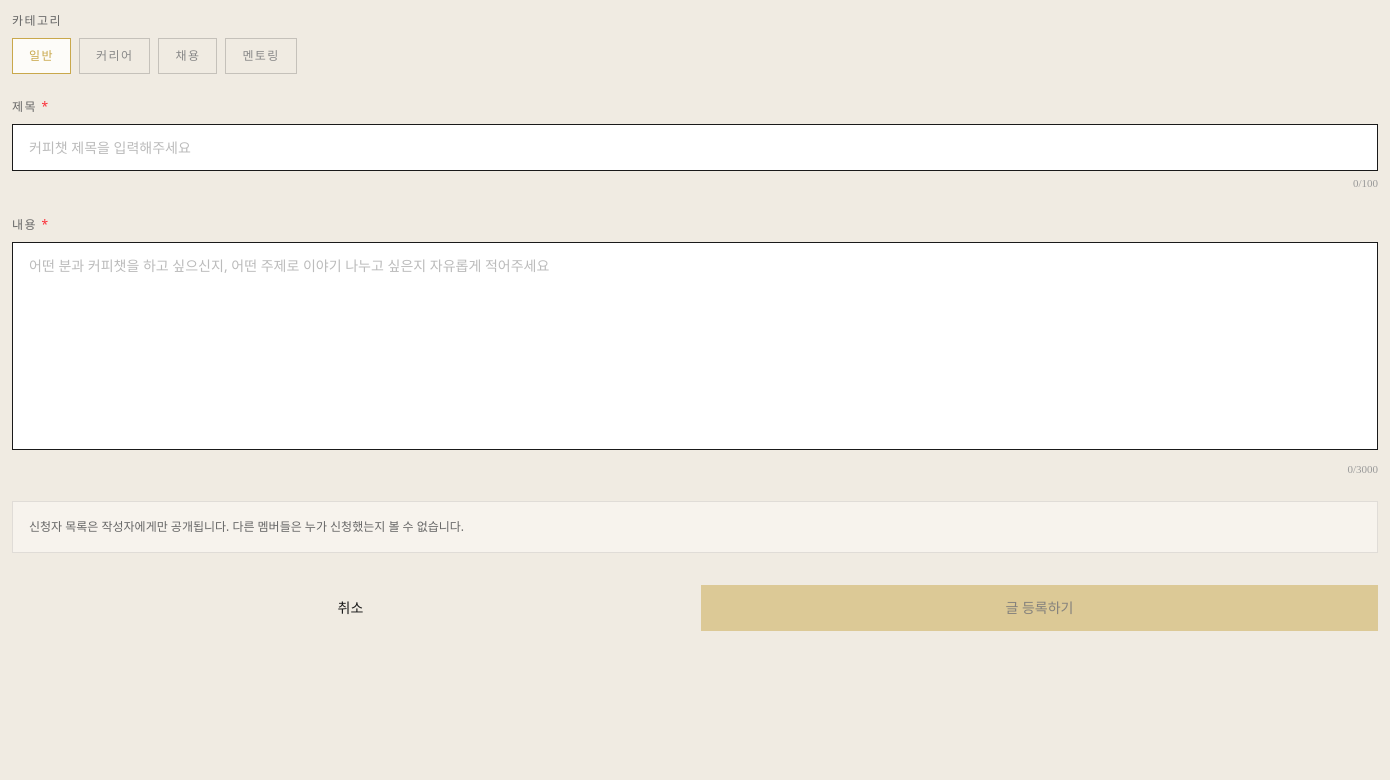
Scenario: PeerChatForm › shows API error message when response is not ok
Type "제목" into the field with placeholder "커피챗 제목을 입력해주세요". click: [695, 148]
box: [12,124,1378,171]
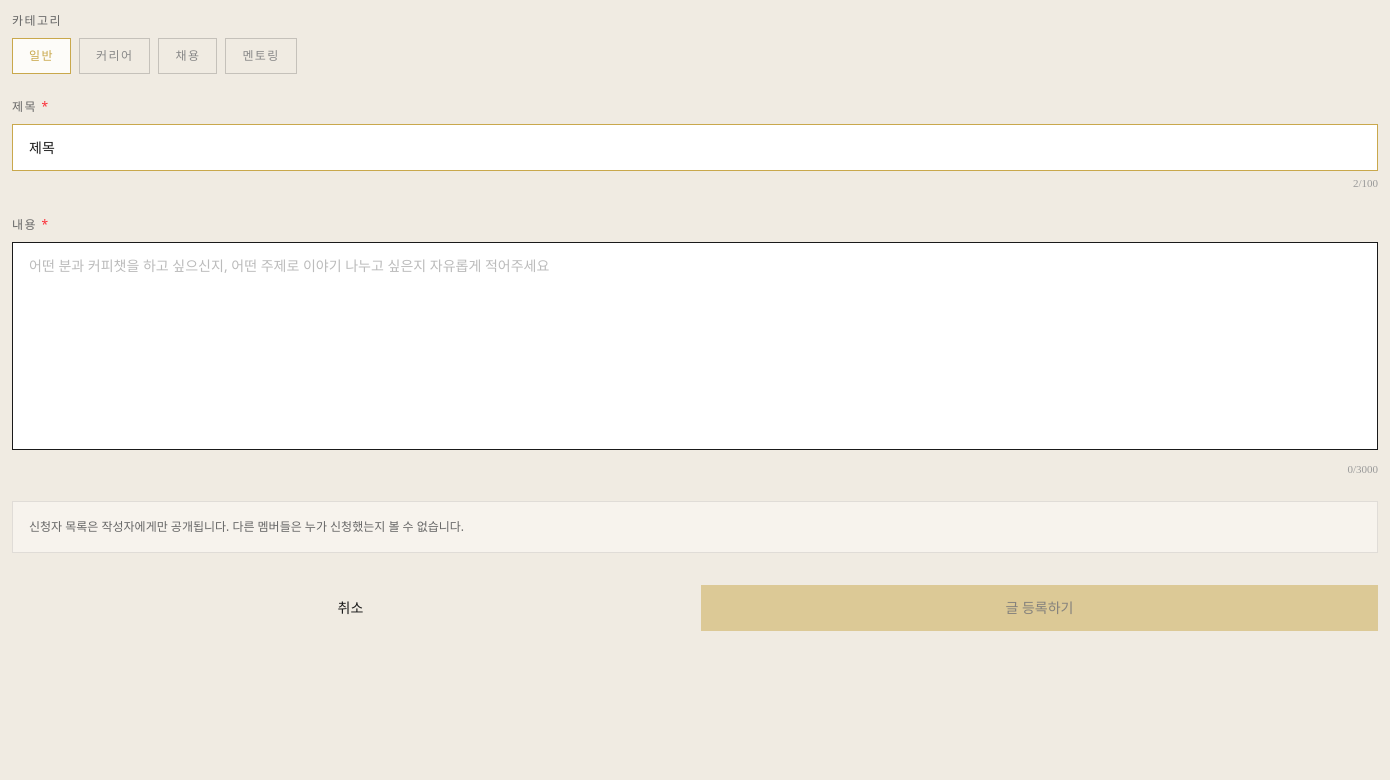
Type "내용" into the text box with placeholder "어떤 분과 커피챗을 하고 싶으신지, 어떤 주제로 이야기 나누고 싶은지 자유롭게 적어주세요". click: [695, 346]
box: [12,242,1378,450]
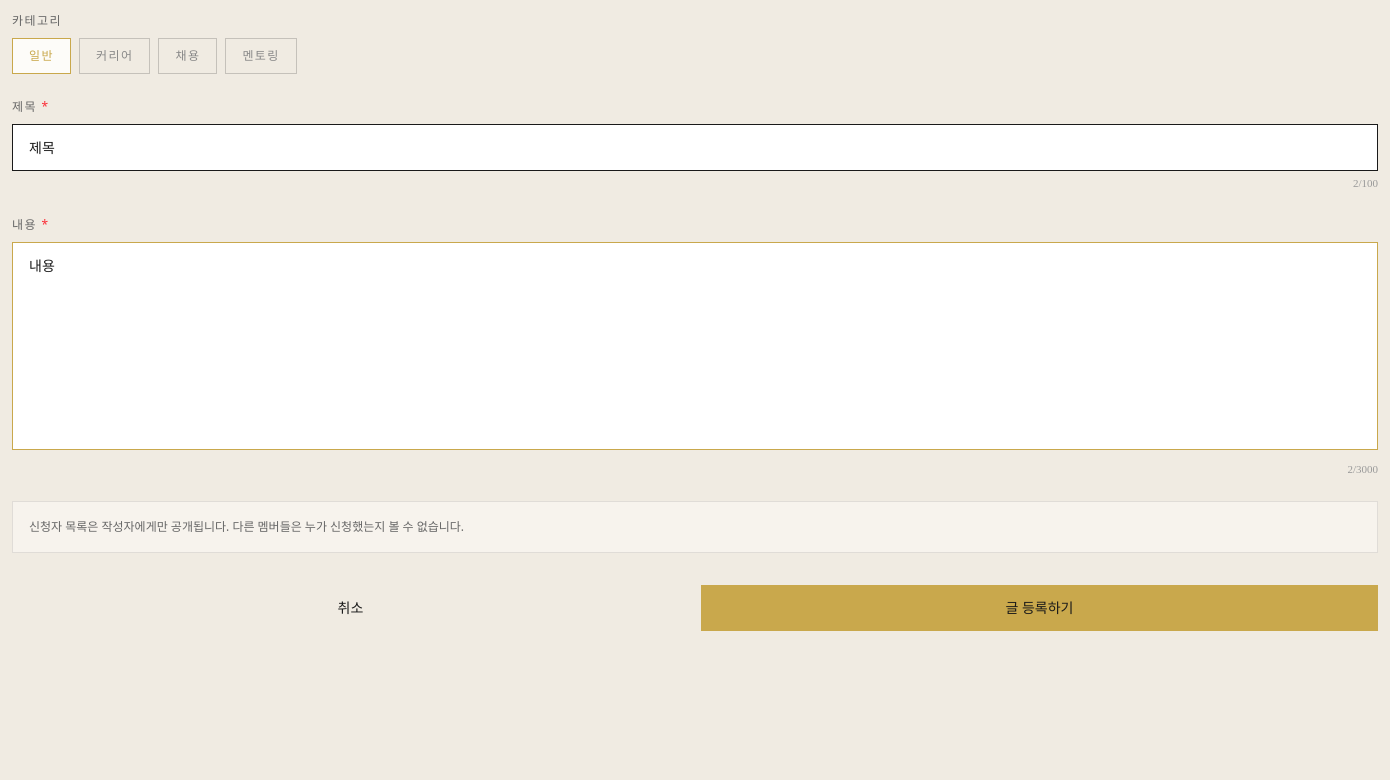
Click the button "글 등록하기". click: [1040, 608]
box: [701,585,1378,631]
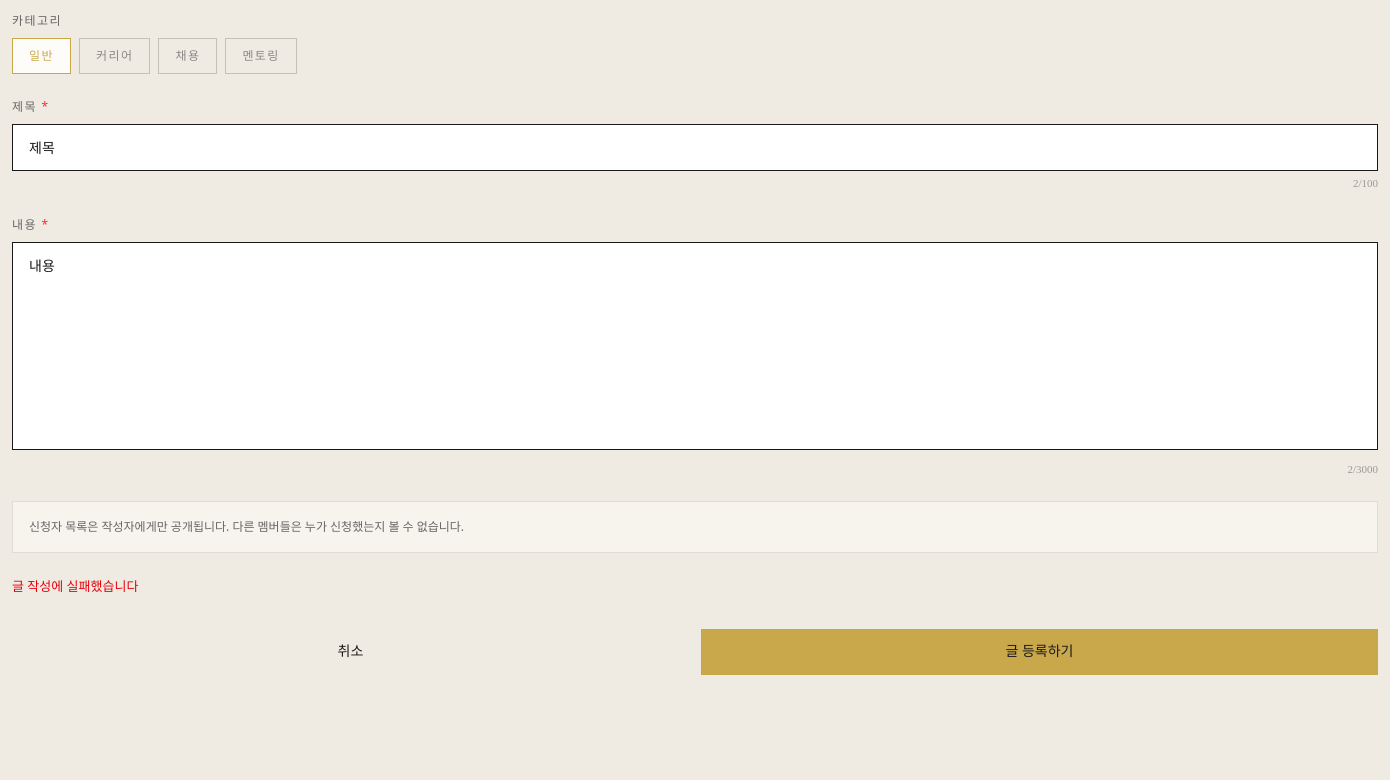
Result: the text "글 작성에 실패했습니다" is shown at [12,577,138,595]
